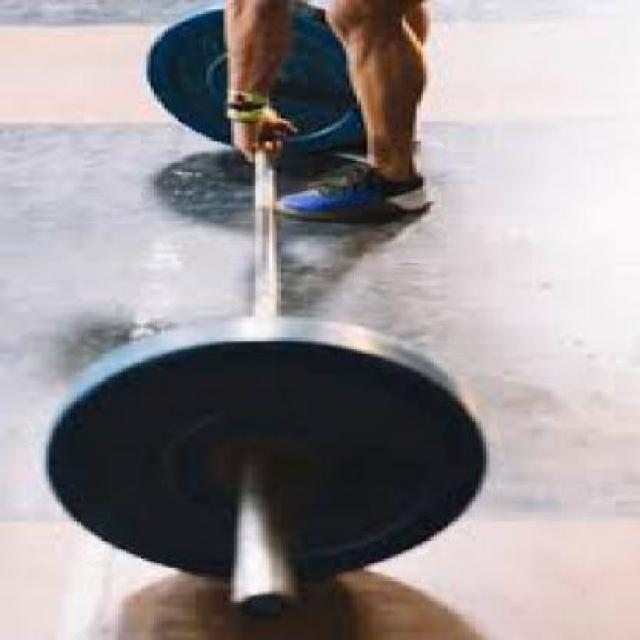Barbell: (189, 570, 343, 627)
